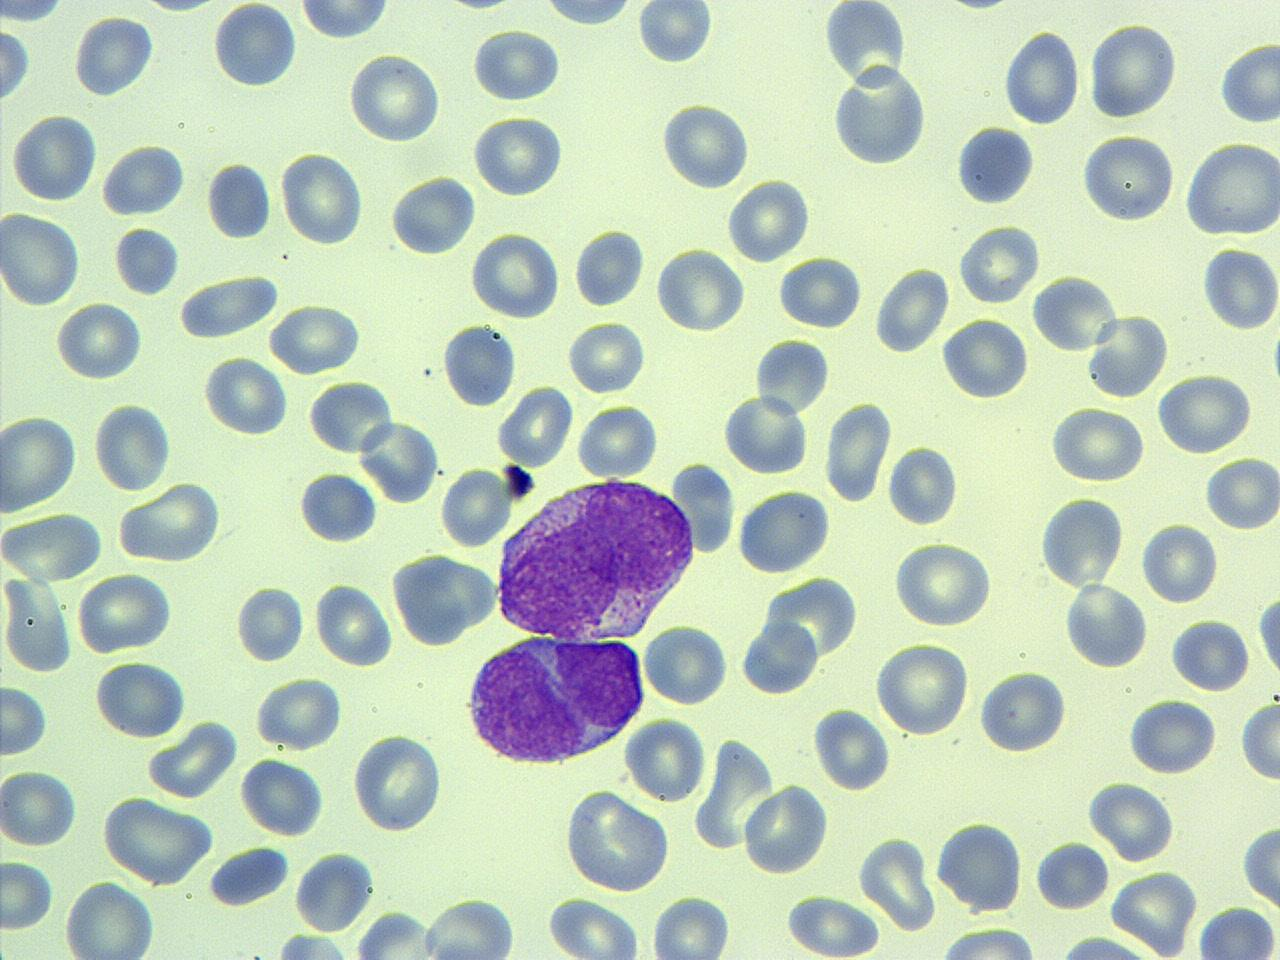Platelets: (1217, 37, 1279, 128), (636, 1, 713, 67), (500, 460, 538, 503), (946, 0, 1010, 15), (1269, 326, 1280, 393)
RBC: (563, 785, 671, 896), (389, 549, 501, 646), (1181, 136, 1279, 240), (101, 796, 211, 886), (350, 729, 444, 834), (873, 638, 973, 736), (1086, 20, 1180, 122), (890, 539, 996, 629), (1077, 129, 1177, 224), (346, 51, 444, 145), (734, 486, 834, 576), (658, 99, 754, 191), (115, 482, 224, 563), (932, 820, 1025, 914), (468, 228, 562, 320), (278, 147, 365, 247), (742, 781, 830, 877), (469, 110, 566, 198), (975, 668, 1071, 755), (0, 207, 83, 309), (1108, 865, 1200, 956), (1039, 492, 1125, 590), (1154, 370, 1254, 454), (77, 570, 174, 654), (856, 832, 940, 930), (655, 244, 746, 335), (9, 111, 98, 204), (940, 312, 1030, 402), (0, 411, 80, 513), (1047, 402, 1147, 483), (210, 2, 301, 90), (726, 174, 814, 264), (1002, 26, 1080, 126), (92, 398, 174, 493), (61, 878, 157, 960), (387, 171, 478, 257), (0, 568, 74, 673), (0, 510, 105, 584), (1086, 310, 1170, 401), (145, 718, 239, 800), (92, 658, 186, 739), (1062, 581, 1148, 670), (720, 392, 810, 476), (1124, 696, 1218, 776), (177, 269, 284, 340), (822, 0, 908, 88), (312, 578, 396, 668), (622, 715, 708, 802), (641, 620, 728, 706), (71, 11, 156, 98), (56, 299, 145, 383), (266, 301, 366, 374), (956, 220, 1042, 306), (1089, 778, 1176, 862), (871, 263, 951, 354), (1029, 271, 1119, 352), (308, 378, 399, 458), (820, 400, 890, 504), (734, 617, 822, 698), (439, 320, 520, 408), (252, 676, 346, 751), (201, 355, 288, 436), (240, 754, 324, 838), (358, 417, 438, 504), (293, 848, 376, 932), (1140, 519, 1220, 606), (470, 27, 563, 101), (812, 705, 891, 792), (99, 141, 188, 217), (497, 382, 575, 468), (1200, 243, 1276, 332), (751, 336, 833, 416), (776, 254, 862, 330), (783, 892, 882, 958), (574, 401, 657, 479), (1167, 616, 1251, 693), (423, 892, 518, 960), (887, 441, 959, 528), (567, 316, 647, 395), (0, 767, 79, 848), (439, 464, 512, 550), (572, 224, 646, 308), (1203, 453, 1279, 532), (297, 469, 377, 544), (234, 582, 306, 664), (648, 892, 733, 960), (1032, 838, 1110, 912), (1218, 38, 1280, 127), (205, 159, 272, 241), (111, 224, 182, 298), (636, 1, 718, 65), (1196, 904, 1276, 960), (353, 906, 434, 960), (0, 857, 56, 933), (933, 923, 1045, 960), (296, 0, 395, 41), (1238, 696, 1280, 786), (1, 681, 50, 757), (1240, 819, 1280, 910), (536, 0, 640, 31), (1255, 584, 1280, 686), (0, 25, 31, 103), (0, 1, 70, 25)
WBC: (491, 470, 701, 645), (462, 632, 648, 770), (565, 786, 673, 894), (389, 546, 502, 646), (343, 46, 456, 146), (826, 64, 932, 169), (350, 728, 447, 833), (733, 483, 836, 578), (208, 3, 305, 94), (980, 668, 1072, 754), (179, 266, 284, 340), (953, 119, 1037, 209), (96, 657, 190, 735), (441, 317, 519, 411), (297, 468, 378, 546), (205, 158, 272, 243), (205, 842, 290, 906), (1253, 581, 1279, 689)
